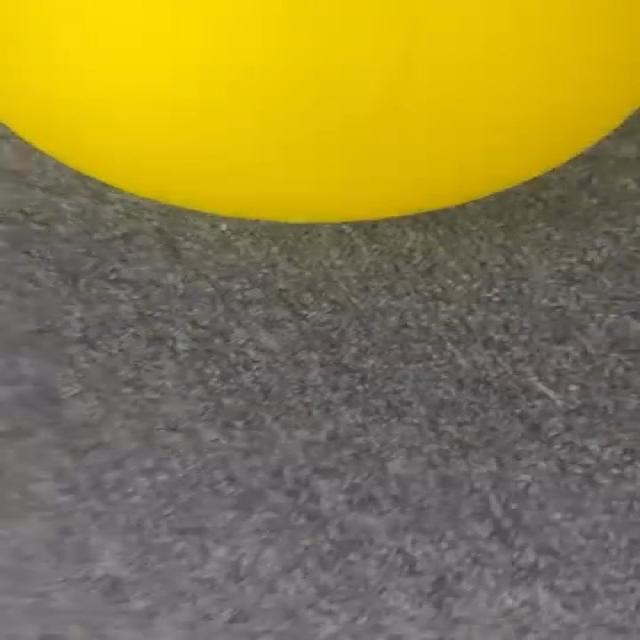Fuels: (0, 0, 638, 220)
